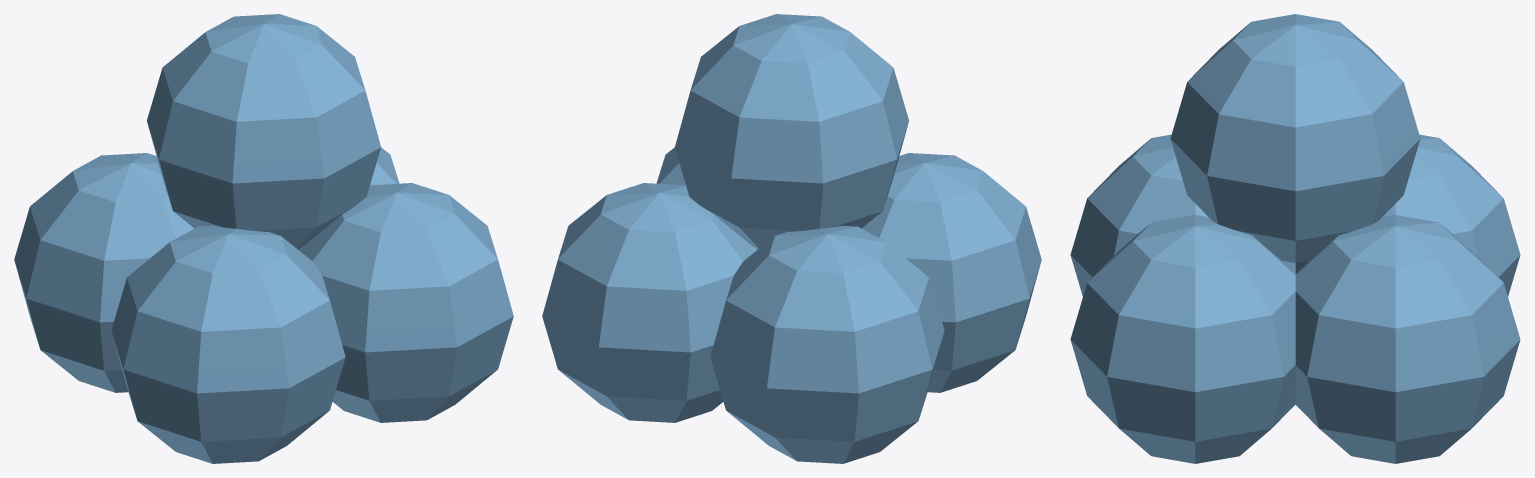
File: SM_SnowballPile1.fbx
3 renders of one model, left to right at view 1: azimuth 30°, elevation 25°; view 2: azimuth 150°, elevation 25°; view 3: azimuth 270°, elevation 25°, orthographic. The views are drawn at different scales.
Parts seen in each view (by area): view 1: SM_SnowballPile1; view 2: SM_SnowballPile1; view 3: SM_SnowballPile1.
Boxes of the visible parts, bbox=[...] form: SM_SnowballPile1: bbox=[14, 14, 513, 463]; SM_SnowballPile1: bbox=[542, 14, 1041, 463]; SM_SnowballPile1: bbox=[1070, 14, 1520, 463].
Bounding box in the file's own units: 180 × 170 × 180.
